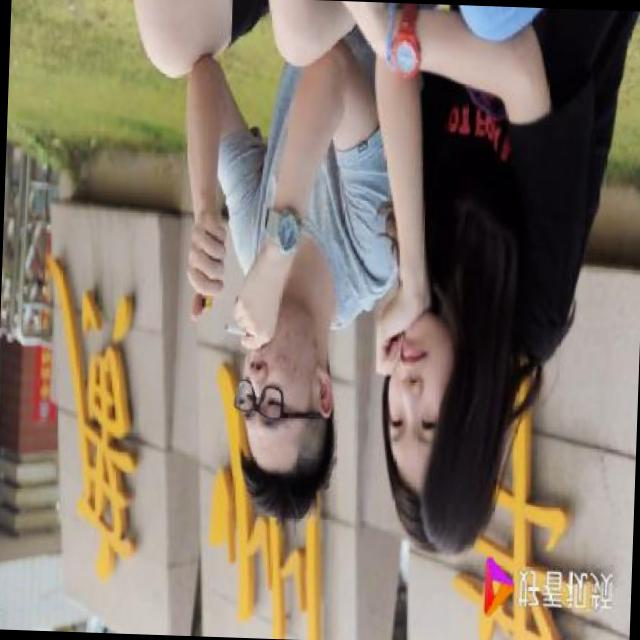cigarette: (219, 314, 252, 344)
